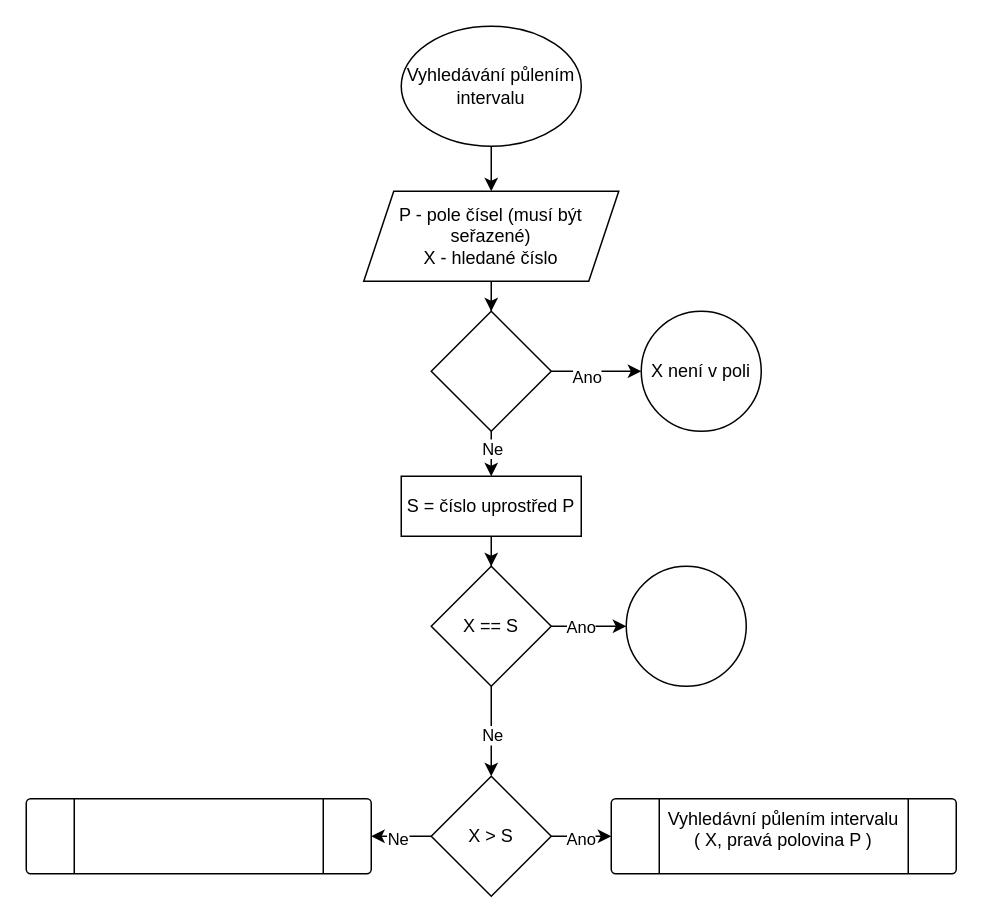
Some shapes in this 983 by 923 pixel diagram are drawn without their labels. The shapes that lost their labels are listed below. From the top down, each one's box as (x1, y1, x2, y2) in pixels, then its label:
(430, 310, 551, 431): P prázdné?
(625, 565, 746, 686): Našel jsem (S)
(25, 797, 371, 874): Vyhledávní půlením intervalu ( X, levá polovina P )
